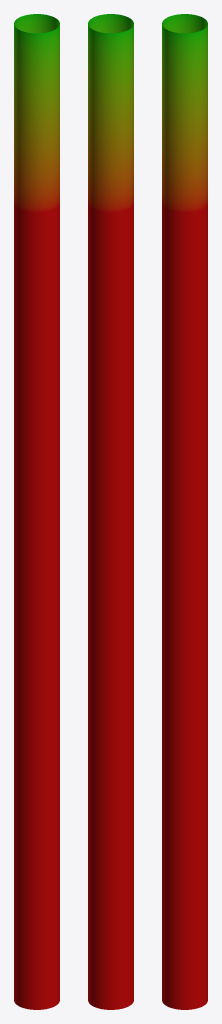
File: SM_DivineLaserBeam_02.FBX
3 views of the same model, side by side, from view 1: azimuth 90°, elevation 25°; view 2: azimuth 210°, elevation 25°; view 3: azimuth 270°, elevation 25° (orthographic).
Visible parts, largest first — view 1: SM_DivineLaserBeam_02; view 2: SM_DivineLaserBeam_02; view 3: SM_DivineLaserBeam_02.
Boxes of the visible parts, <box> form: SM_DivineLaserBeam_02: <box>14,14,59,1009</box>; SM_DivineLaserBeam_02: <box>88,14,133,1009</box>; SM_DivineLaserBeam_02: <box>162,14,207,1009</box>.
Bounding box in the file's own units: 64 × 64 × 1500.
